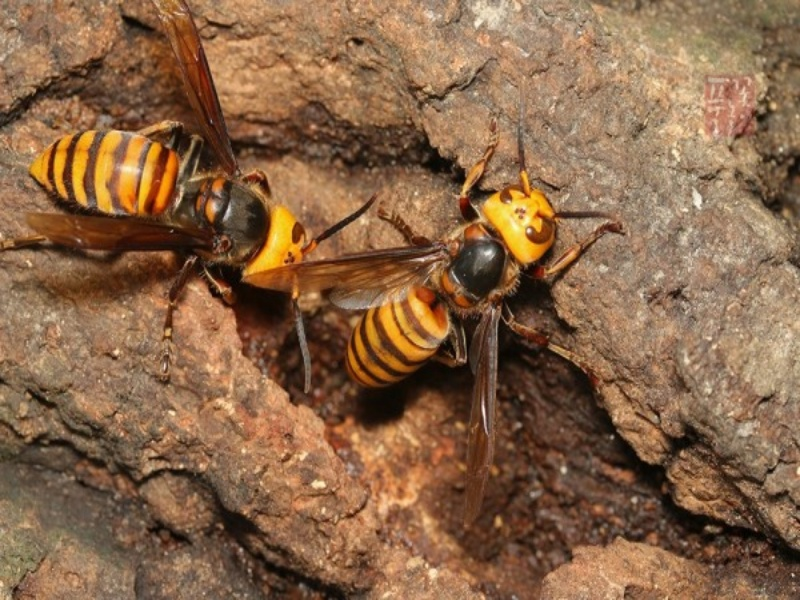asian_giant_hornet: (21, 117, 319, 346), (340, 164, 565, 393)
